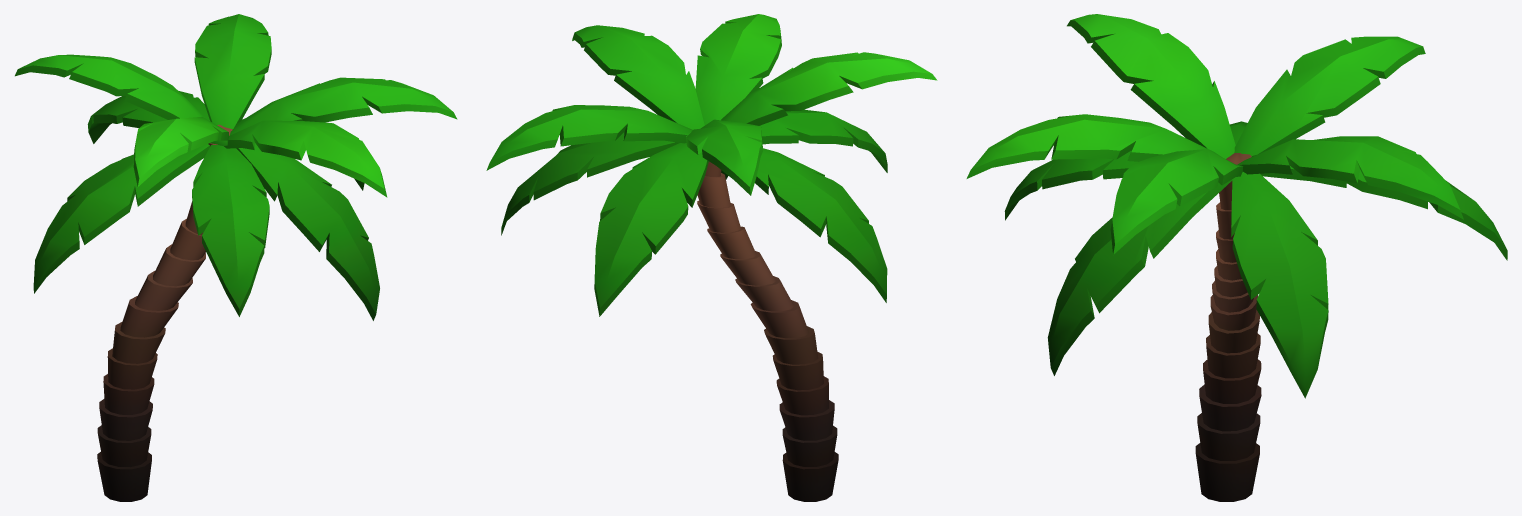
Rendered from PalmTree.dae.
The picture shows the model from 3 angles, left to right: view 1: azimuth 30°, elevation 25°; view 2: azimuth 150°, elevation 25°; view 3: azimuth 270°, elevation 25°; orthographic projection. The views are drawn at different scales.
Visible parts, largest first — view 1: Tree1_Material.050_0; view 2: Tree1_Material.050_0; view 3: Tree1_Material.050_0.
Part boxes in pixels (bbox=[...]): Tree1_Material.050_0: bbox=[15, 14, 457, 501]; Tree1_Material.050_0: bbox=[486, 14, 937, 501]; Tree1_Material.050_0: bbox=[966, 14, 1507, 501].
Size of the model in its own units: 9.33 by 10.18 by 9.59.
Materials: 1 (1 with a texture image).
